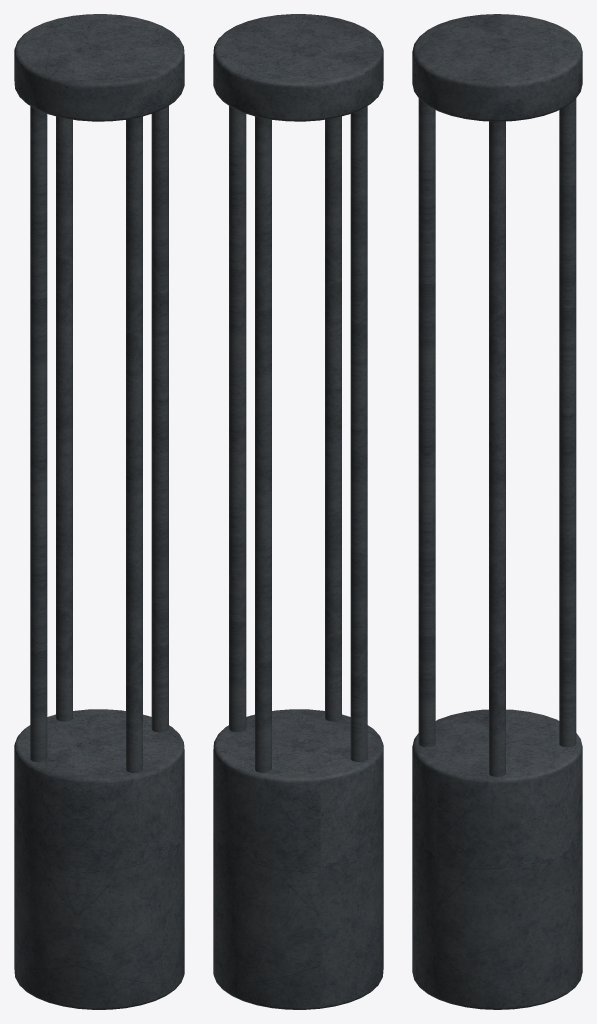
File: vibe-pedestal-light.glb
3 renders of one model, left to right at view 1: azimuth 30°, elevation 25°; view 2: azimuth 150°, elevation 25°; view 3: azimuth 270°, elevation 25°, orthographic.
Parts seen in each view (by area): view 1: base, road, road.001, road.003, road.002; view 2: base, road, road.001, road.002, road.003; view 3: base, road.003, road.002, road.001.
Boxes of the visible parts, left/top/right/bottom form: base: left=14, top=14, right=184, bottom=1009; road: left=30, top=106, right=47, bottom=761; road.001: left=151, top=106, right=168, bottom=732; road.003: left=126, top=116, right=142, bottom=772; road.002: left=56, top=116, right=72, bottom=721; base: left=213, top=14, right=383, bottom=1009; road: left=350, top=106, right=367, bottom=761; road.001: left=229, top=106, right=246, bottom=732; road.002: left=255, top=116, right=271, bottom=772; road.003: left=325, top=116, right=341, bottom=721; base: left=412, top=14, right=582, bottom=1009; road.003: left=418, top=98, right=435, bottom=747; road.002: left=559, top=98, right=576, bottom=747; road.001: left=489, top=121, right=505, bottom=776.
Bounding box in the file's own units: 0.2 × 1.2 × 0.2.
5 materials, 2 textured.
